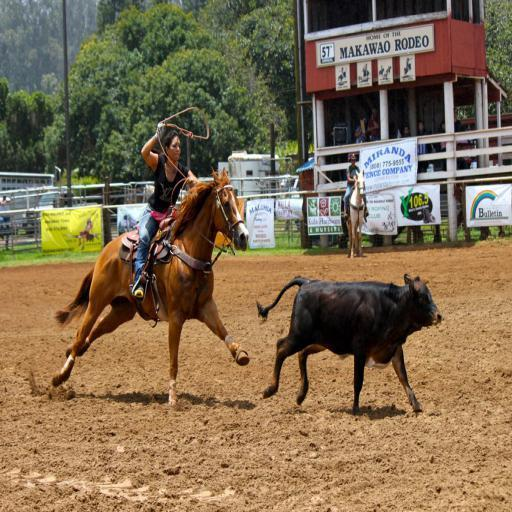horse: (50, 165, 250, 410), (343, 170, 365, 260)
